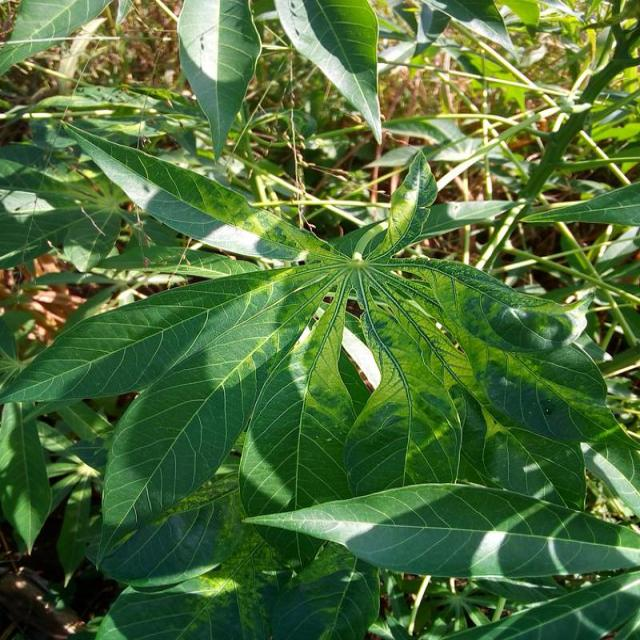cassava leaf: (2, 119, 638, 608), (274, 0, 384, 144), (178, 0, 263, 162)
